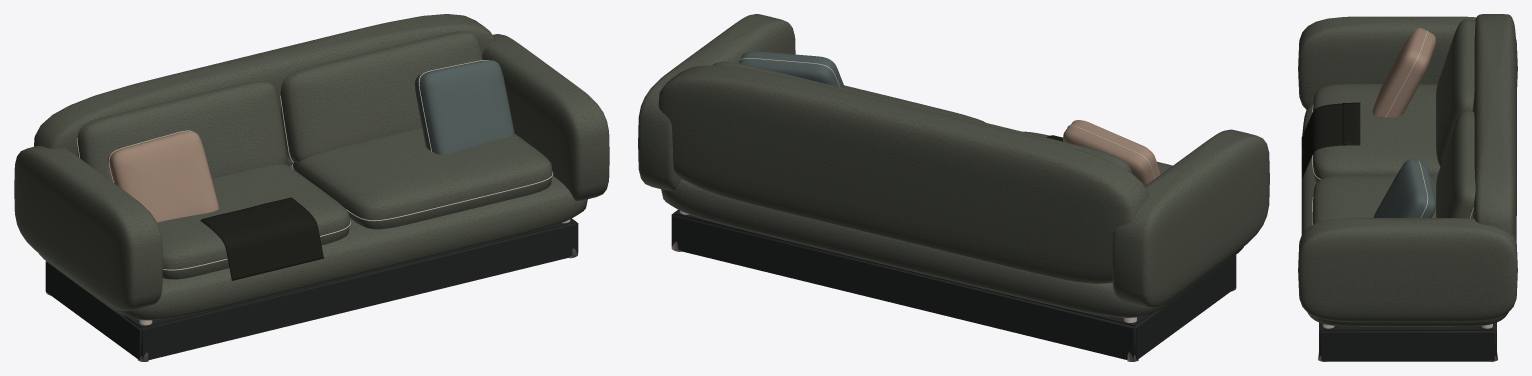
The model's file is modern.sofa.gltf.
3 views of the same model, side by side, from view 1: azimuth 30°, elevation 25°; view 2: azimuth 150°, elevation 25°; view 3: azimuth 270°, elevation 25° (orthographic). The views are drawn at different scales.
Visible parts, largest first — view 1: modern.sofa.leg; view 2: modern.sofa.leg; view 3: modern.sofa.leg.
Boxes of the visible parts, x1,y1,x2,y2 form: modern.sofa.leg: [14, 14, 609, 361]; modern.sofa.leg: [638, 14, 1269, 361]; modern.sofa.leg: [1298, 14, 1517, 361].
Bounding box in the file's own units: 2.22 × 0.8031 × 0.94.
7 materials, 4 textured.
